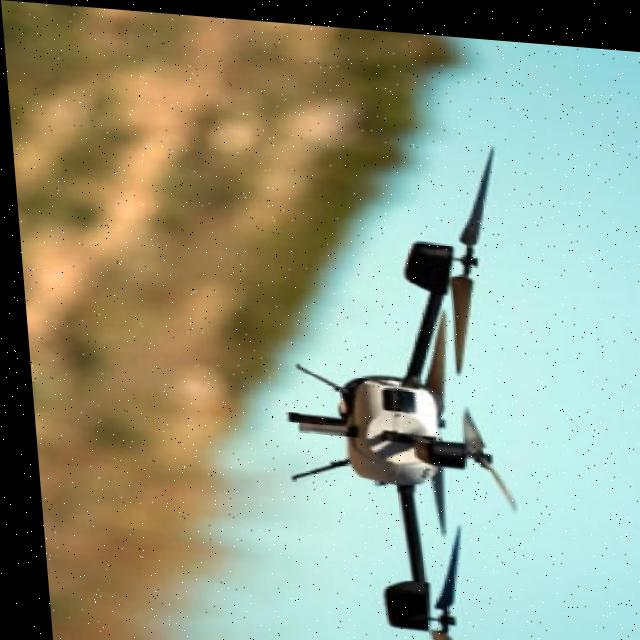drones: (238, 125, 570, 640)
